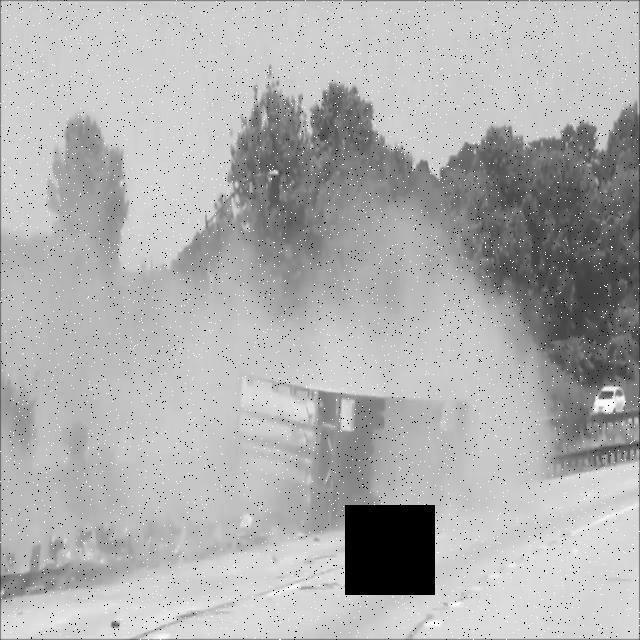accident: (209, 363, 479, 541)
vehicle: (588, 386, 628, 417)
